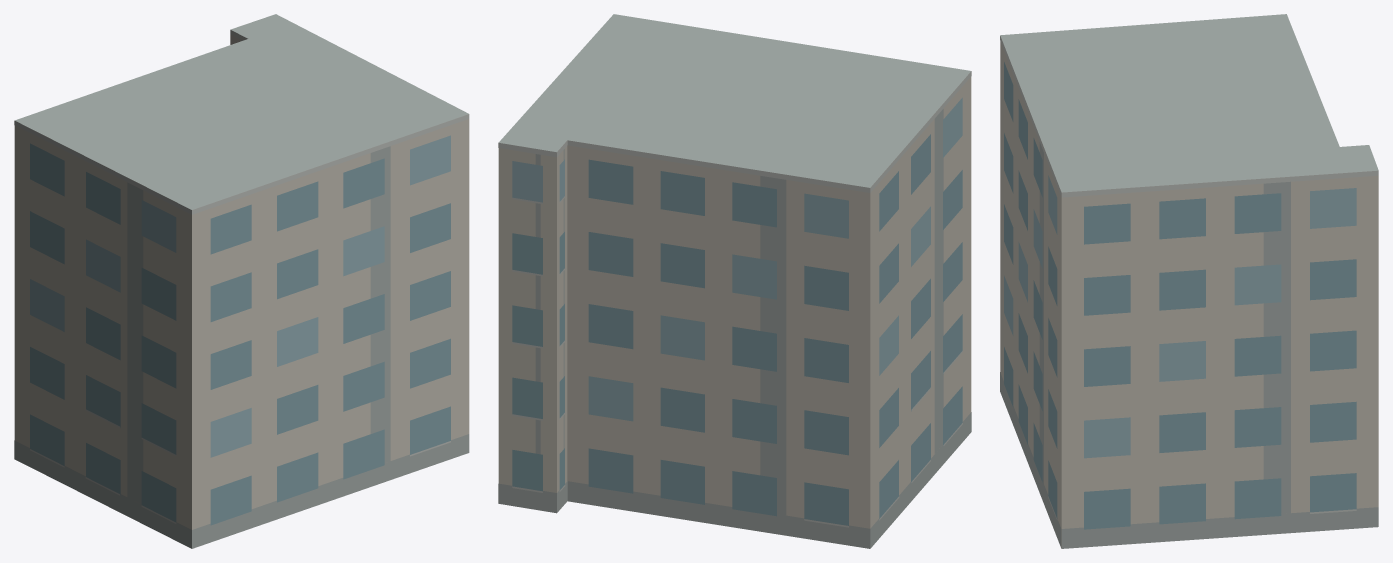
Rendered from survey-upis-32832576.glb.
The picture shows the model from 3 angles, left to right: view 1: azimuth 30°, elevation 25°; view 2: azimuth 150°, elevation 25°; view 3: azimuth 270°, elevation 25°; orthographic projection. The views are drawn at different scales.
Visible parts, largest first — view 1: survey-upis-32832576.tmp; view 2: survey-upis-32832576.tmp; view 3: survey-upis-32832576.tmp.
Part boxes in pixels (x1=…): survey-upis-32832576.tmp: x1=14, y1=14, x2=469, y2=548; survey-upis-32832576.tmp: x1=498, y1=14, x2=971, y2=548; survey-upis-32832576.tmp: x1=1000, y1=14, x2=1378, y2=548.
Size of the model in its own units: 18.43 by 17.14 by 16.52.
